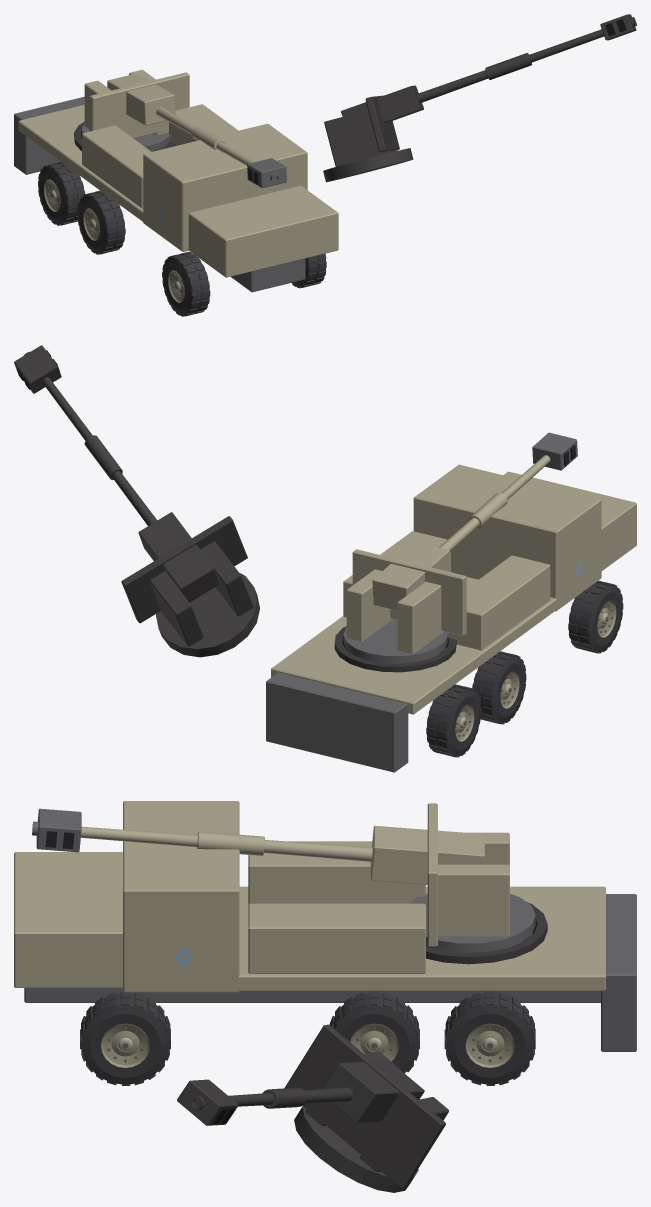
File: artillery__k105a1.glb
3 views of the same model, one above another, from view 1: azimuth 30°, elevation 25°; view 2: azimuth 150°, elevation 25°; view 3: azimuth 270°, elevation 25° (orthographic). The views are drawn at different scales.
Visible parts, largest first — view 1: Hull_Mesh, Wreck, Turret_Mesh, Gun_Mesh, Wheel_L2_Mesh, Wheel_L1_Mesh, Wheel_L0_Mesh, Wheel_R2_Mesh; view 2: Hull_Mesh, Wreck, Turret_Mesh, Gun_Mesh, Wheel_L0_Mesh, Wheel_L2_Mesh, Wheel_L1_Mesh; view 3: Hull_Mesh, Wreck, Gun_Mesh, Turret_Mesh, Wheel_R0_Mesh, Wheel_R2_Mesh, Wheel_R1_Mesh.
Part boxes in pixels (x1,y1,x2,y2): Hull_Mesh: (14, 96, 338, 292); Wreck: (47, 14, 636, 287); Turret_Mesh: (82, 69, 189, 151); Gun_Mesh: (107, 73, 286, 188); Wheel_L2_Mesh: (162, 252, 210, 316); Wheel_L1_Mesh: (77, 190, 125, 254); Wheel_L0_Mesh: (38, 161, 85, 225); Wheel_R2_Mesh: (291, 253, 326, 288); Hull_Mesh: (266, 464, 636, 772); Wreck: (14, 345, 610, 756); Turret_Mesh: (343, 549, 466, 663); Gun_Mesh: (372, 432, 577, 610); Wheel_L0_Mesh: (426, 684, 481, 757); Wheel_L2_Mesh: (568, 580, 623, 653); Wheel_L1_Mesh: (472, 651, 526, 724); Hull_Mesh: (14, 801, 636, 1051); Wreck: (137, 902, 547, 1192); Gun_Mesh: (32, 808, 484, 884); Turret_Mesh: (409, 803, 535, 952); Wheel_R0_Mesh: (444, 991, 535, 1085); Wheel_R2_Mesh: (80, 991, 170, 1085); Wheel_R1_Mesh: (329, 991, 419, 1073).
Size of what is drawn, in the model's own units: 9.64 by 3.18 by 7.26.
